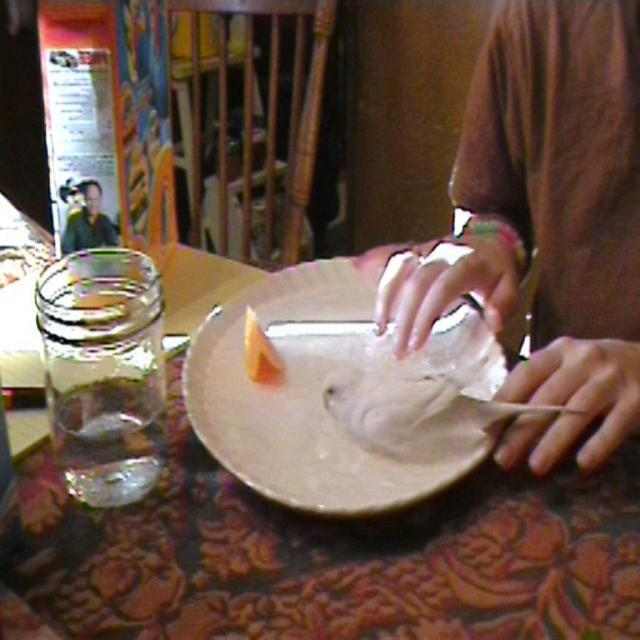ceramic plate: (179, 244, 522, 524)
